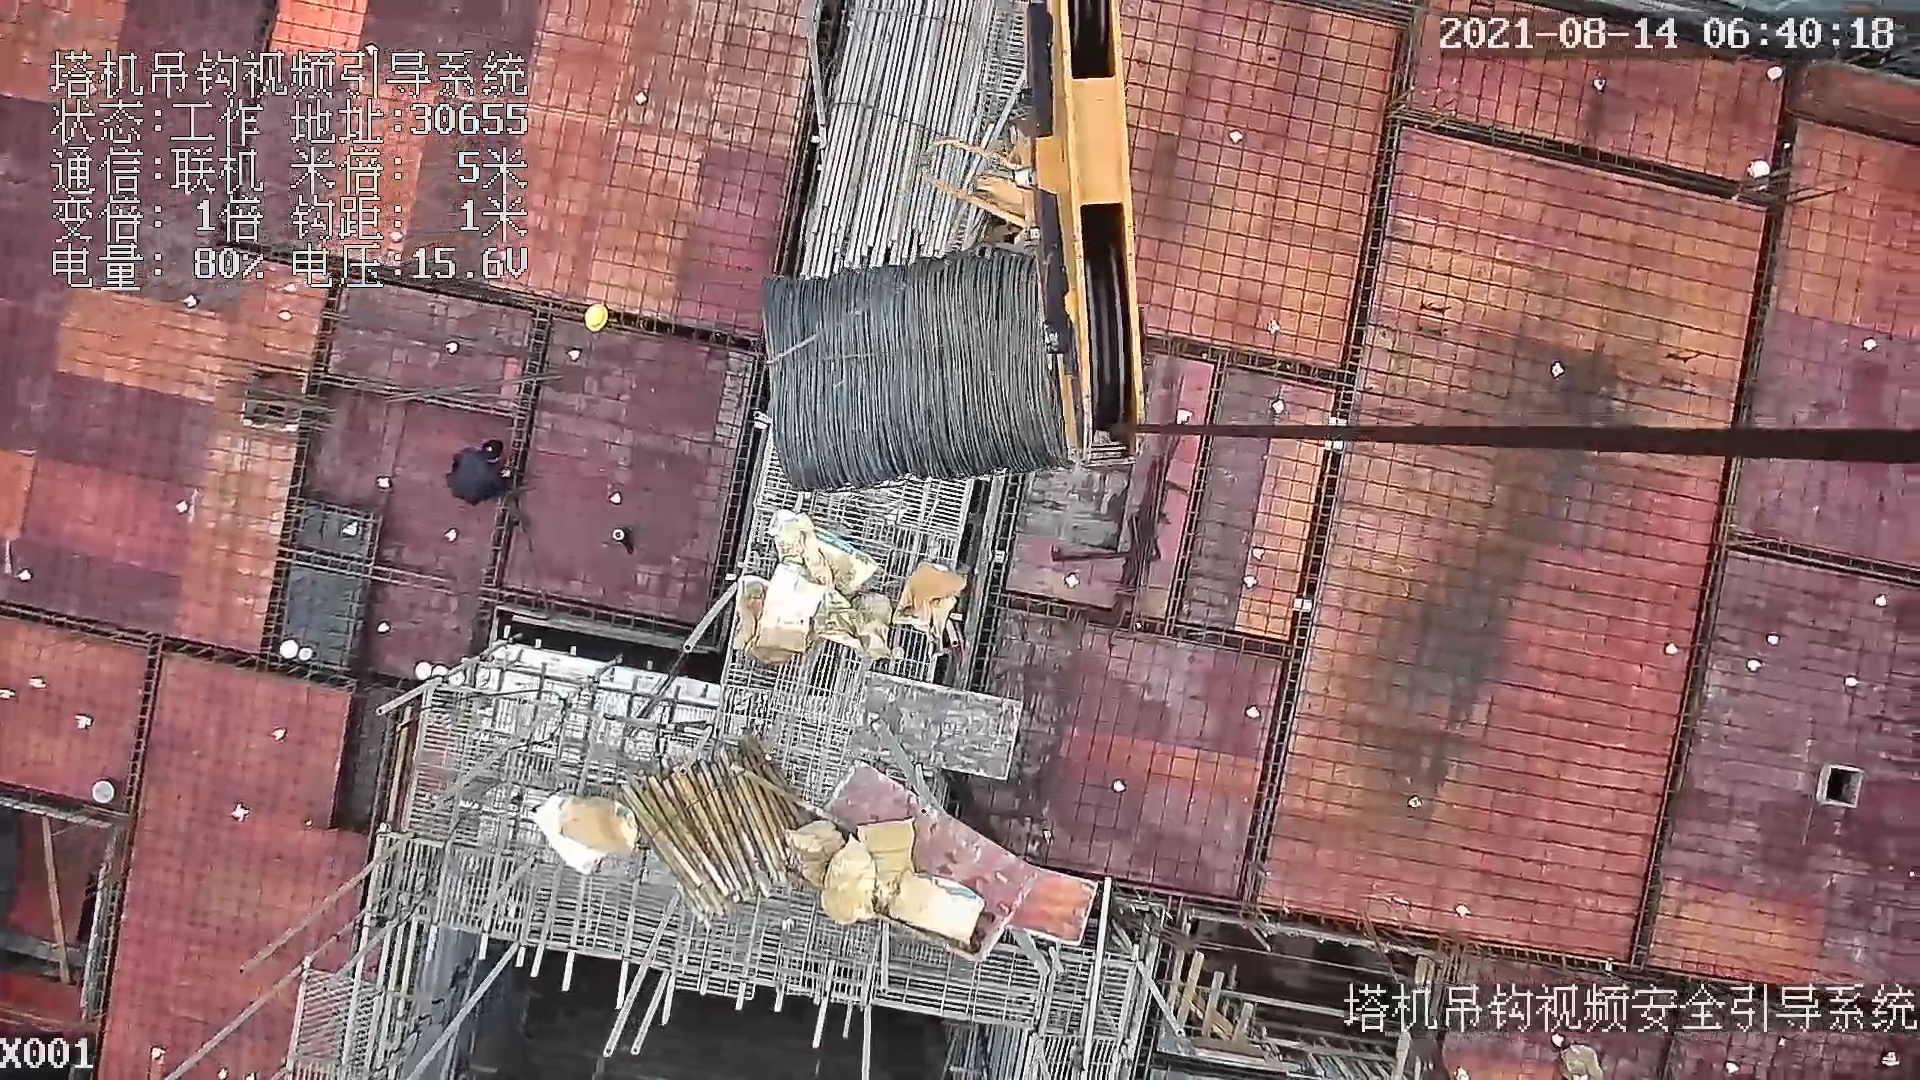helmet: (584, 305, 610, 339)
hook: (908, 1, 1154, 464)
person: (441, 440, 520, 500)
scaffold: (625, 742, 792, 911)
